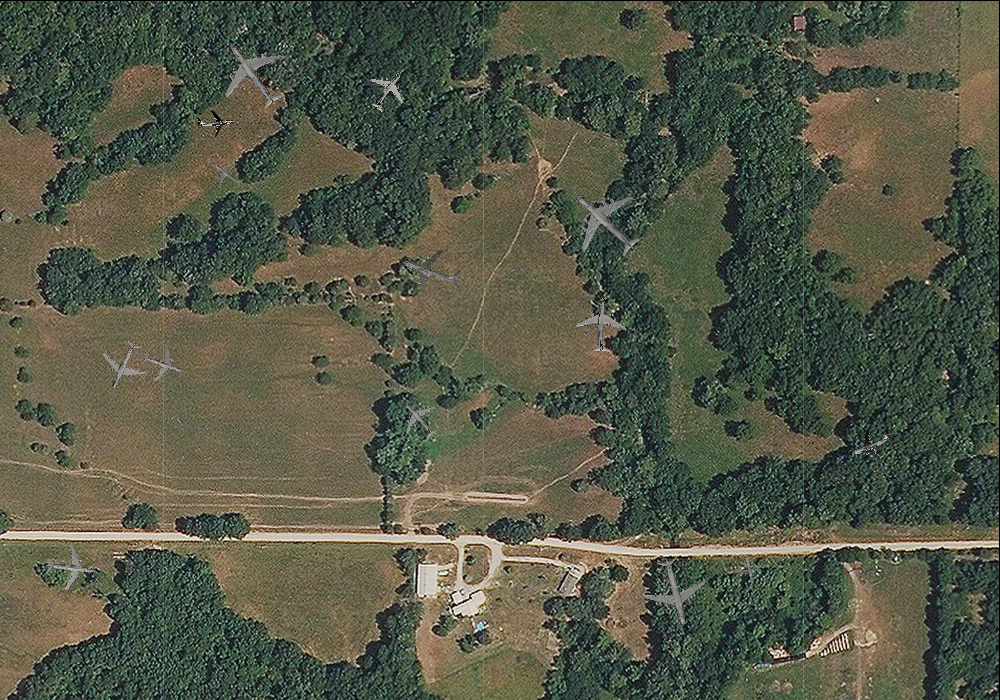plane: (550, 167, 659, 275), (201, 21, 303, 124), (635, 550, 715, 633), (393, 233, 468, 307), (90, 331, 156, 399), (357, 58, 419, 121), (389, 389, 448, 449), (573, 295, 630, 354), (844, 417, 899, 470), (42, 542, 98, 594), (136, 339, 188, 388), (204, 150, 250, 196), (194, 103, 235, 140), (731, 550, 766, 587)
